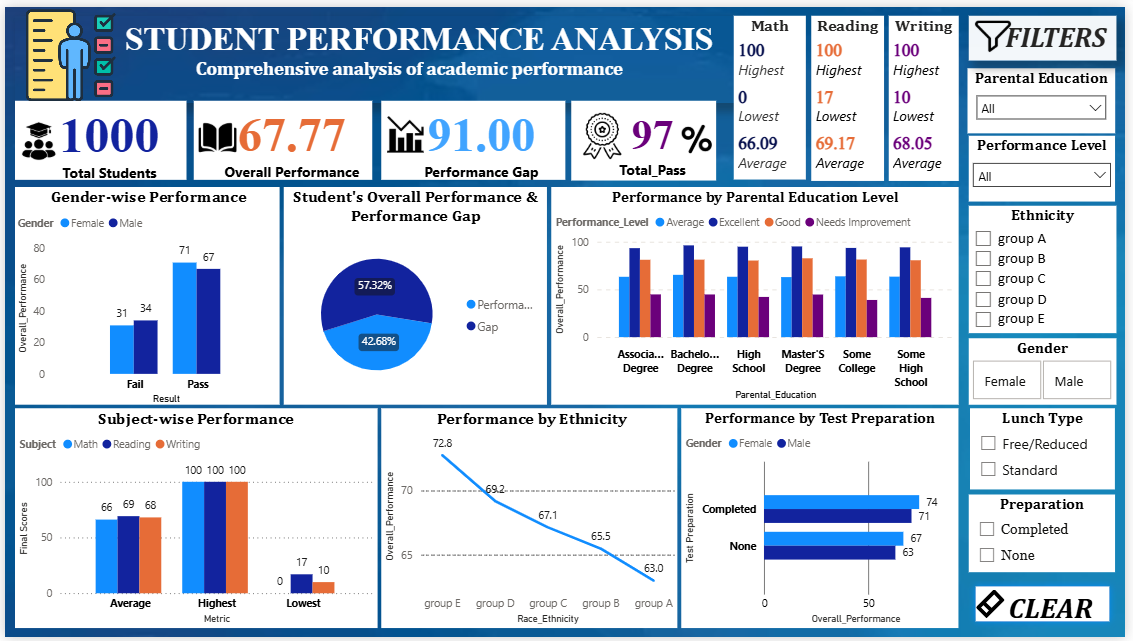

This screenshot's page, from the dashboard's own definition file:
{"tool":"powerbi","page":{"name":"Page 1","canvas":[1280,720],"ordinal":0},"visuals":[{"type":"textbox","box":[11.4,10,821.4,100],"z":0},{"type":"lineChart","title":"Performance by  Ethnicity","fields":{"Category":["StudentsPerformance.Race_Ethnicity"],"Y":["StudentsPerformance.Overall_Performance"]},"box":[430,458.6,338.6,251.4],"z":1000},{"type":"clusteredColumnChart","title":"Gender-wise Performance","fields":{"Category":["StudentsPerformance.Result"],"Series":["StudentsPerformance.Gender"],"Y":["StudentsPerformance.Overall_Performance"]},"box":[11.4,205.7,302,248.6],"z":2000},{"type":"clusteredBarChart","title":"Performance by Test Preparation ","fields":{"Category":["StudentsPerformance.Test_Prep_Course"],"Series":["StudentsPerformance.Gender"],"Y":["StudentsPerformance.Overall_Performance"]},"box":[772.9,458.6,317.1,251.4],"z":3000},{"type":"card","fields":{"Values":["StudentsPerformance.Total_Students"]},"box":[11.4,107.1,196,90],"z":4000},{"type":"advancedSlicerVisual","fields":{"Values":["StudentsPerformance.Gender"]},"box":[1101.4,378.6,168.6,75.7],"z":5000},{"type":"slicer","title":"Performance Level","fields":{"Values":["StudentsPerformance.Performance_Level"]},"box":[1101.4,147.1,167.1,75],"z":6000},{"type":"slicer","title":"Parental Education","fields":{"Values":["StudentsPerformance.Parental_Education"]},"box":[1100,70,168.6,74.3],"z":7000},{"type":"slicer","title":"Ethnicity","fields":{"Values":["StudentsPerformance.Race_Ethnicity"]},"box":[1101.4,227.1,168.6,145.7],"z":8000},{"type":"multiRowCard","title":"Math","fields":{"Values":["StudentsPerformance.Max_Math","StudentsPerformance.Min_Math","StudentsPerformance.Avg_Math"]},"box":[832.9,10,82,187.1],"z":9000},{"type":"textbox","box":[1101.4,10,168.6,51],"z":10000},{"type":"slicer","title":"Preparation","fields":{"Values":["StudentsPerformance.Test_Prep_Course"]},"box":[1101.4,557.1,167.1,89],"z":11000},{"type":"card","fields":{"Values":["StudentsPerformance.Avg_Overall_Score"]},"box":[215.7,107.1,204.3,90],"z":12000},{"type":"card","fields":{"Values":["StudentsPerformance.Performance_Gap"]},"box":[430,107.1,210,90],"z":13000},{"type":"multiRowCard","title":"Reading","fields":{"Values":["StudentsPerformance.Max_Reading","StudentsPerformance.Min_Reading","StudentsPerformance.Avg_Reading"]},"box":[921.4,10,82.9,188.6],"z":14000},{"type":"multiRowCard","title":"Writing","fields":{"Values":["StudentsPerformance.Max_Writing","StudentsPerformance.Min_Writing","StudentsPerformance.Avg_Writing"]},"box":[1010,10,80,188.6],"z":15000},{"type":"clusteredColumnChart","title":"Subject-wise Performance","fields":{"Y":["SubjectStats.Final"],"Category":["SubjectStats.Metric"],"Series":["SubjectStats.Subject"]},"box":[11.4,458.6,414,251.4],"z":16000},{"type":"slicer","title":"Lunch Type","fields":{"Values":["StudentsPerformance.Lunch"]},"box":[1102.9,458.6,165.7,93],"z":17000},{"type":"clusteredColumnChart","title":"Performance by Parental Education Level","fields":{"Category":["StudentsPerformance.Parental_Education"],"Y":["StudentsPerformance.Overall_Performance"],"Series":["StudentsPerformance.Performance_Level"]},"box":[624.3,205.7,465.7,248.6],"z":18000},{"type":"image","box":[11.4,122.9,54.3,60],"z":19000},{"type":"image","box":[1100,10,58.6,50],"z":20000},{"type":"card","fields":{"Values":["StudentsPerformance.Total Pass"]},"box":[647.1,107.1,165.7,91.4],"z":21000},{"type":"image","box":[651.4,111.4,62.9,71.4],"z":22000},{"type":"image","box":[768.6,125.7,44.3,50],"z":23000},{"type":"actionButton","box":[1101.4,654.3,168.6,55.7],"z":24000},{"type":"image","box":[420.5,119.4,74.6,51],"z":25000},{"type":"pieChart","title":"Student''s Overall Performance & Performance Gap","fields":{"Y":["StudentsPerformance.Overall_Performance","StudentsPerformance.Performance_Gap"]},"box":[318.5,205.3,301,248.8],"z":26000},{"type":"image","box":[11.4,0,127.1,110],"z":27000},{"type":"image","box":[215.7,122.9,60,52.9],"z":28000}]}

Visuals, with their boxes in screenshot pixels (x1, y1, x2, y2), scaled from the page's 1280x720 canvas onto the 1133x641 screenshot:
textbox: rect(10, 9, 737, 98)
"Performance by  Ethnicity" lineChart: rect(381, 408, 680, 632)
"Gender-wise Performance" clusteredColumnChart: rect(10, 183, 277, 404)
"Performance by Test Preparation " clusteredBarChart: rect(684, 408, 965, 632)
card - StudentsPerformance.Total_Students: rect(10, 95, 184, 175)
advancedSlicerVisual - StudentsPerformance.Gender: rect(975, 337, 1124, 404)
"Performance Level" slicer: rect(975, 131, 1123, 198)
"Parental Education" slicer: rect(974, 62, 1123, 128)
"Ethnicity" slicer: rect(975, 202, 1124, 332)
"Math" multiRowCard: rect(737, 9, 810, 175)
textbox: rect(975, 9, 1124, 54)
"Preparation" slicer: rect(975, 496, 1123, 575)
card - StudentsPerformance.Avg_Overall_Score: rect(191, 95, 372, 175)
card - StudentsPerformance.Performance_Gap: rect(381, 95, 566, 175)
"Reading" multiRowCard: rect(816, 9, 889, 177)
"Writing" multiRowCard: rect(894, 9, 965, 177)
"Subject-wise Performance" clusteredColumnChart: rect(10, 408, 377, 632)
"Lunch Type" slicer: rect(976, 408, 1123, 491)
"Performance by Parental Education Level" clusteredColumnChart: rect(553, 183, 965, 404)
image: rect(10, 109, 58, 163)
image: rect(974, 9, 1026, 53)
card - StudentsPerformance.Total Pass: rect(573, 95, 719, 177)
image: rect(577, 99, 632, 163)
image: rect(680, 112, 720, 156)
actionButton: rect(975, 583, 1124, 632)
image: rect(372, 106, 438, 152)
"Student''s Overall Performance & Performance Gap" pieChart: rect(282, 183, 548, 404)
image: rect(10, 0, 123, 98)
image: rect(191, 109, 244, 157)
